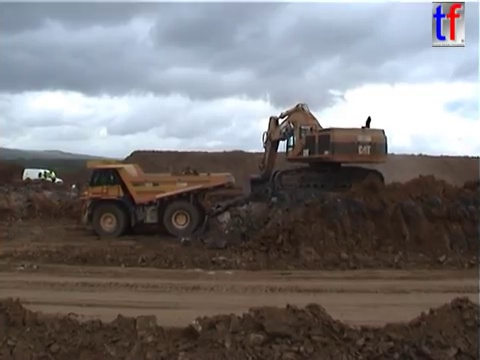excavator: (241, 100, 390, 202)
truck: (69, 157, 235, 238)
worker: (47, 168, 57, 186), (40, 167, 48, 183)
